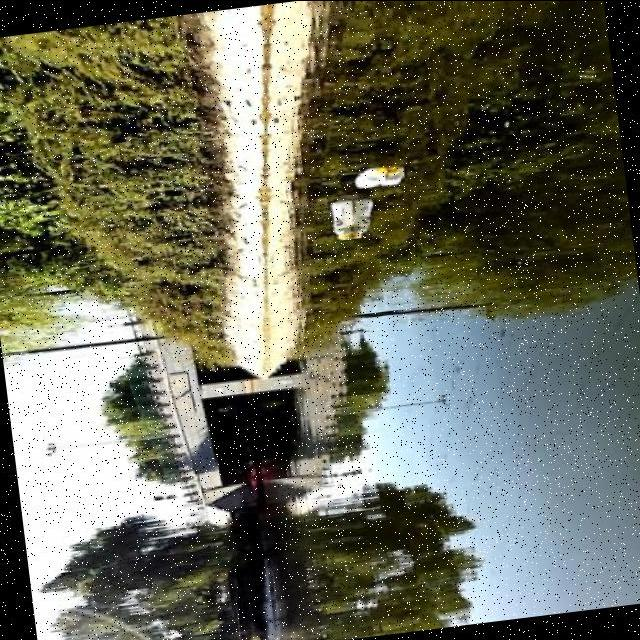Bottle: (324, 194, 358, 247), (352, 161, 394, 192)
